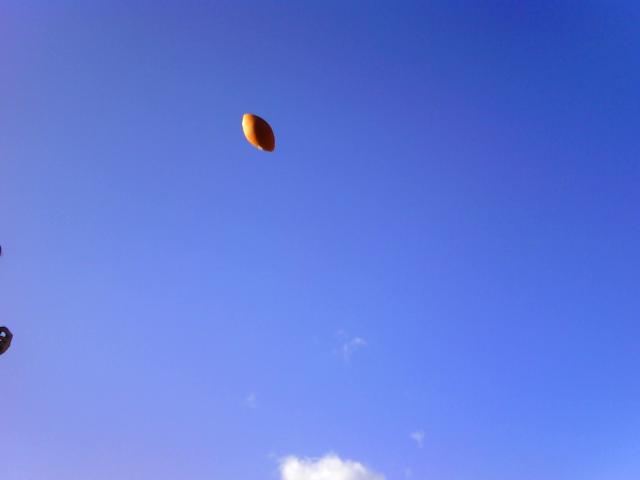football: (237, 110, 281, 160)
